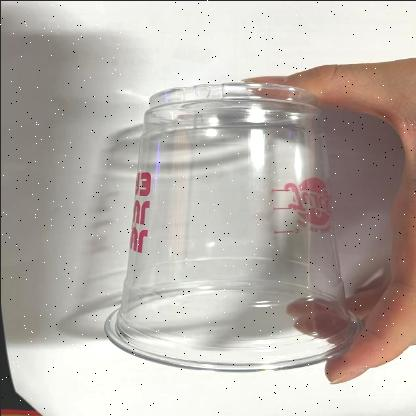Others: (102, 82, 370, 374)
